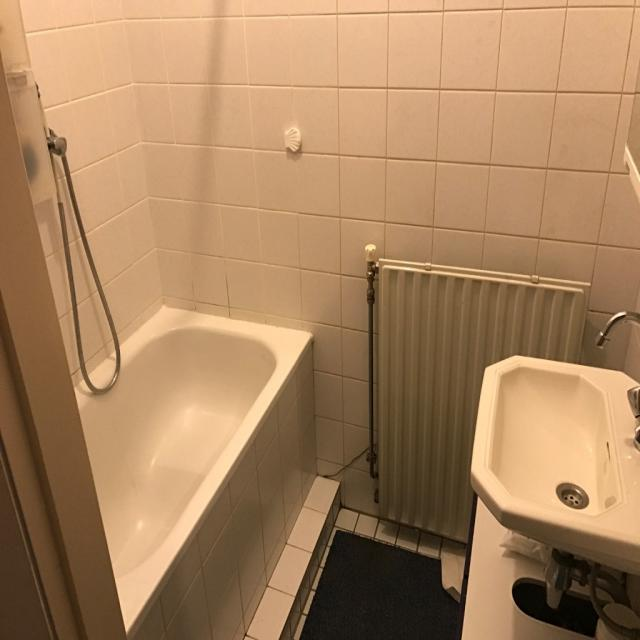bath: (0, 0, 316, 640)
wastafel: (471, 307, 640, 609), (462, 493, 640, 640)
